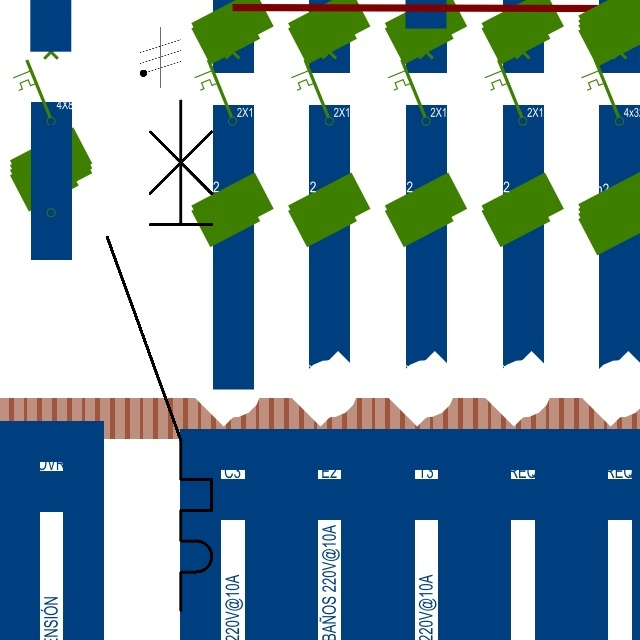interruptor_termomagnetico: (94, 87, 225, 623)
